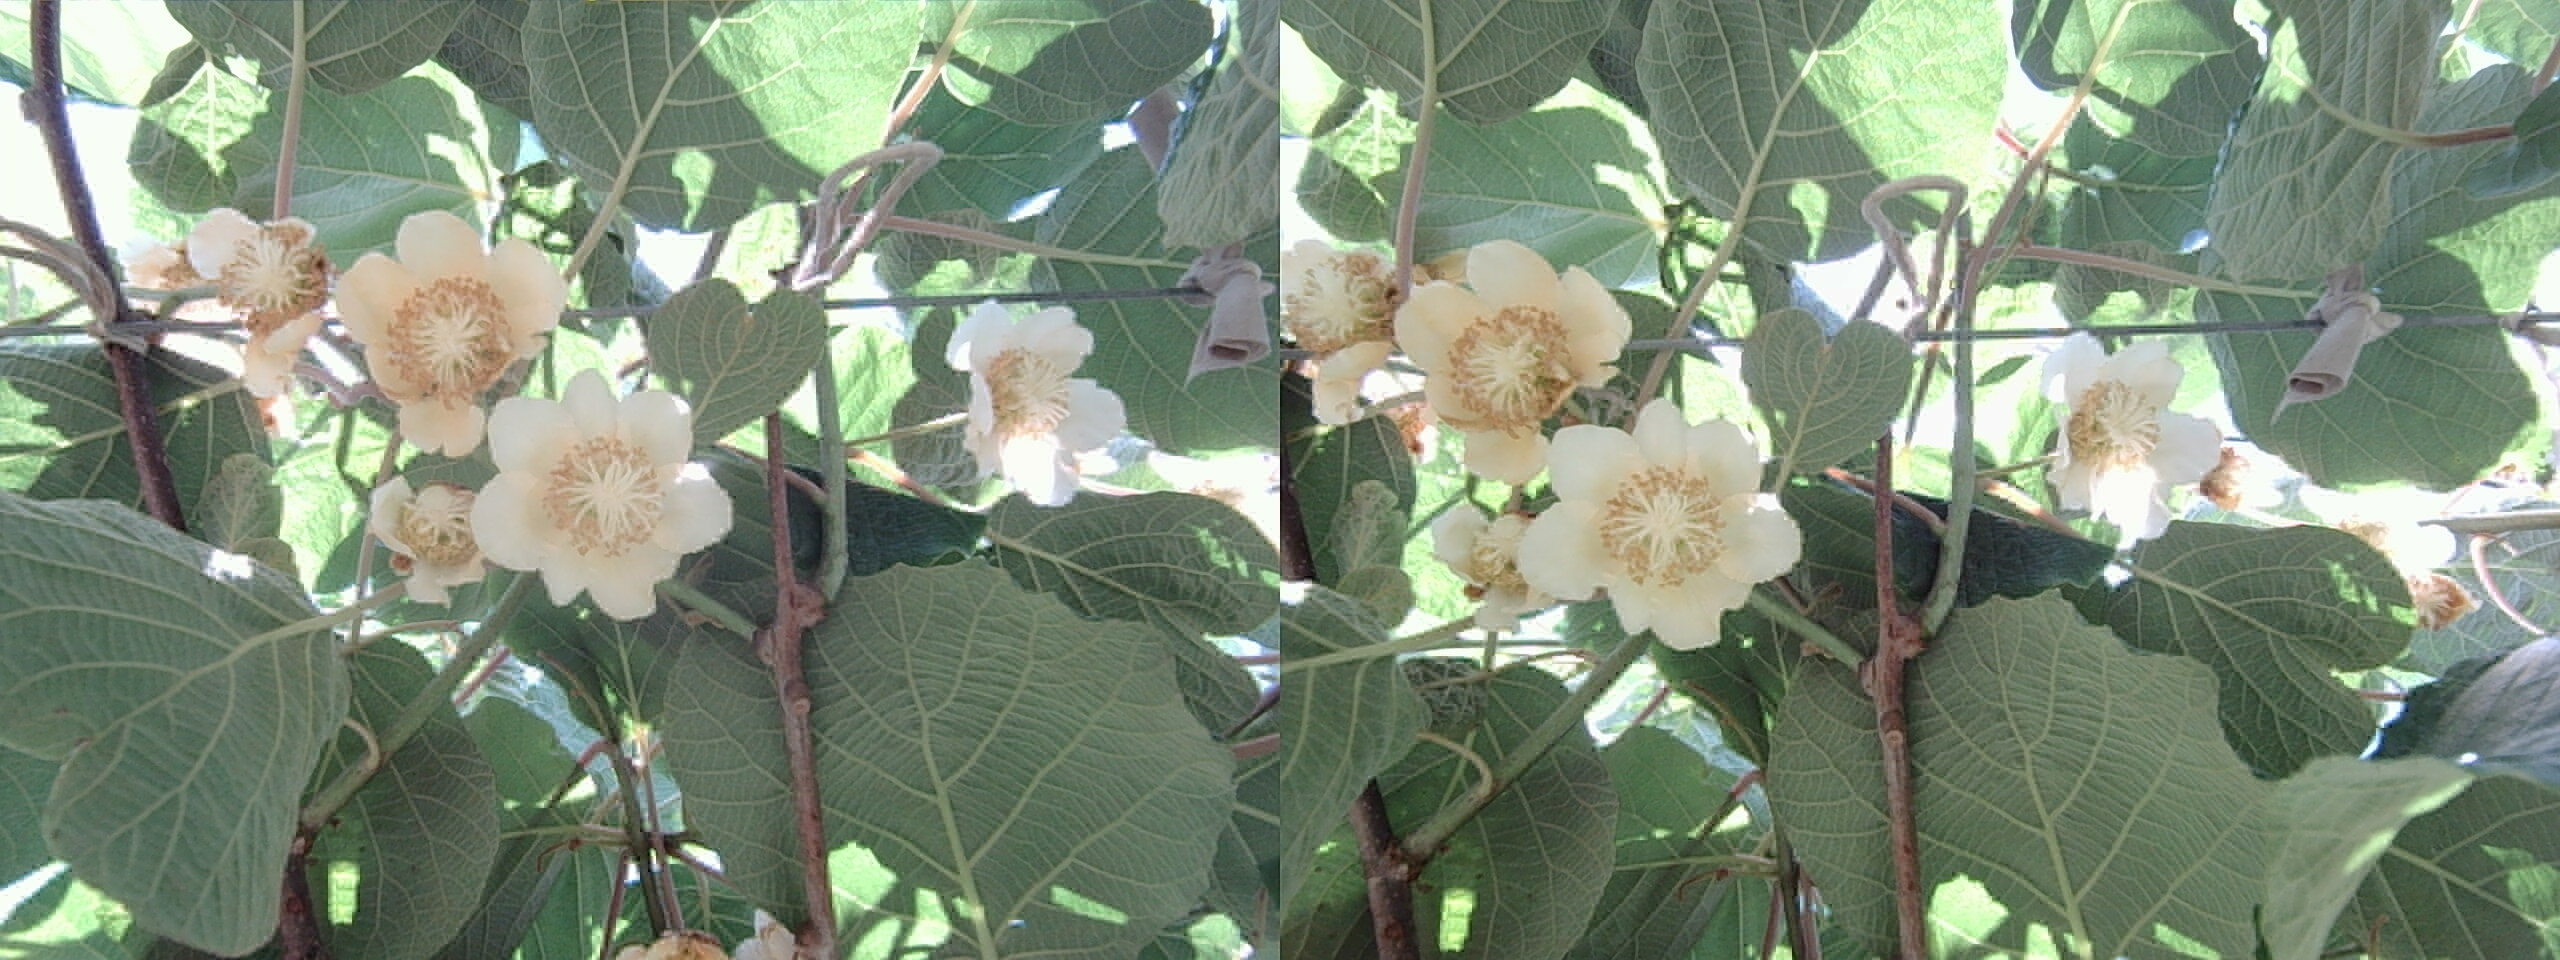flower: (1517, 400, 1788, 643), (467, 371, 723, 616), (322, 211, 560, 446), (1393, 243, 1624, 477), (2033, 331, 2207, 539), (944, 299, 1117, 495), (168, 198, 341, 359), (1282, 237, 1412, 367), (356, 473, 500, 588)
